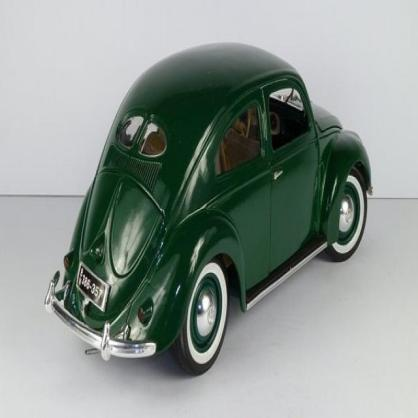car: (42, 43, 374, 382)
